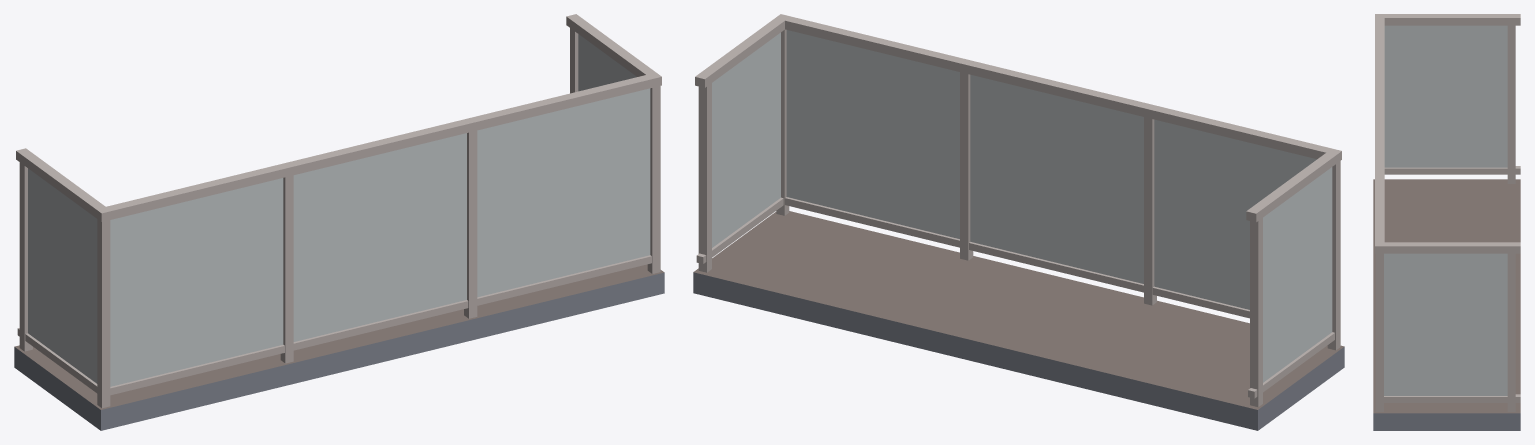
The model's file is SM_Fixture_BalconyShort25620_AluPanel_01.gltf.
3 views of the same model, side by side, from view 1: azimuth 30°, elevation 25°; view 2: azimuth 150°, elevation 25°; view 3: azimuth 270°, elevation 25° (orthographic). The views are drawn at different scales.
Visible parts, largest first — view 1: SM_Fixture_BalconyShort25620_AluPanel_01; view 2: SM_Fixture_BalconyShort25620_AluPanel_01; view 3: SM_Fixture_BalconyShort25620_AluPanel_01.
Boxes of the visible parts, x1,y1,x2,y2 form: SM_Fixture_BalconyShort25620_AluPanel_01: (14,14,664,430); SM_Fixture_BalconyShort25620_AluPanel_01: (693,14,1344,430); SM_Fixture_BalconyShort25620_AluPanel_01: (1373,14,1520,430).
Size of the model in its own units: 3.38 by 1.24 by 0.9.
Materials: 1 (1 with a texture image).
